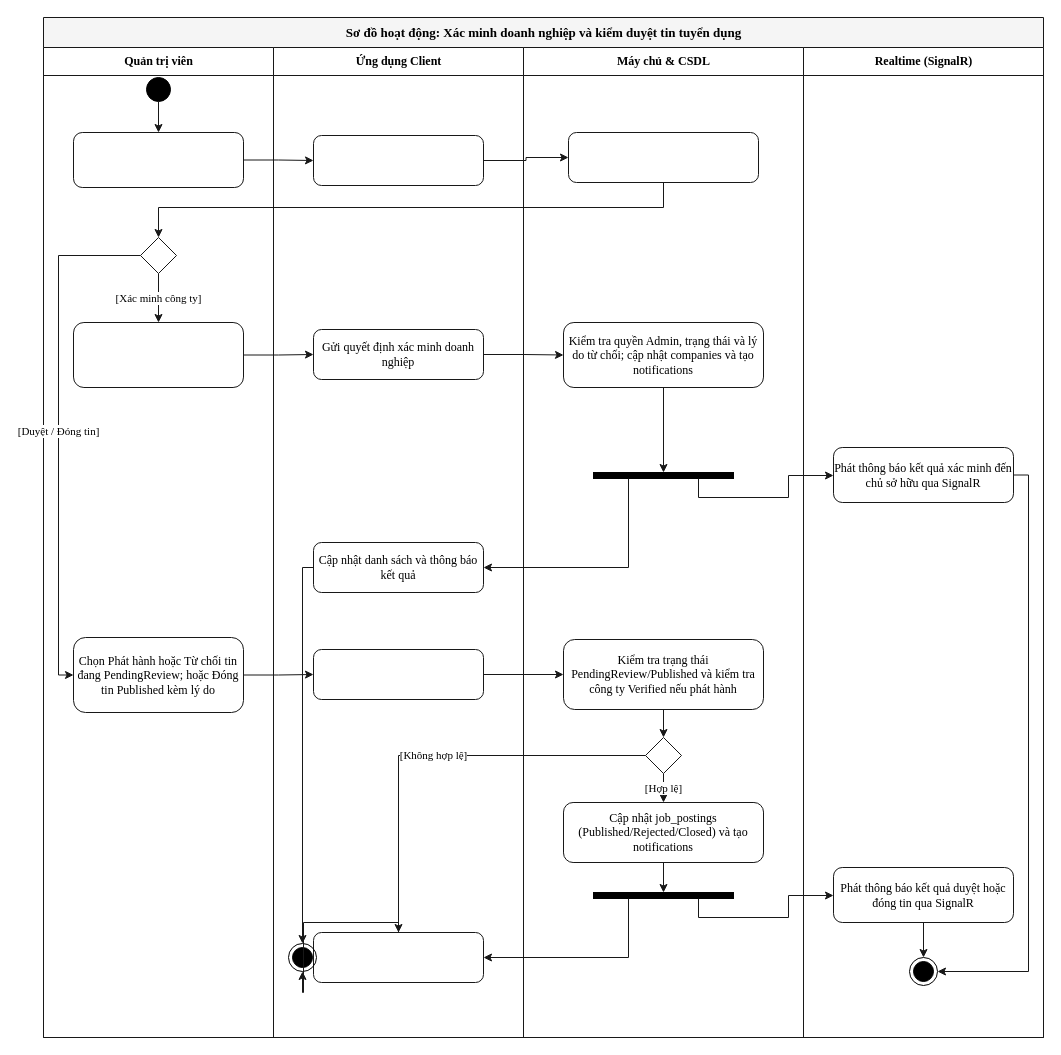
This 1061x1055 diagram has some shape labels left out. The shapes that lost their labels are listed below. From the top down, each one's centre as x and y in pixels, then its label:
At point 158,160: "Mở danh sách doanh nghiệp hoặc tin tuyển dụng, lọc và xem chi tiết".
At point 398,160: "Tải danh sách và hiển thị thông tin chi tiết".
At point 663,157: "Kiểm tra quyền Admin và trả dữ liệu chờ duyệt".
At point 158,355: "Chọn Chấp thuận hoặc Từ chối doanh nghiệp (nhập lý do 5-1.000 ký tự)".
At point 398,674: "Gửi quyết định kiểm duyệt hoặc đóng tin".
At point 398,957: "Cập nhật trạng thái tin hoặc thông báo lỗi".
